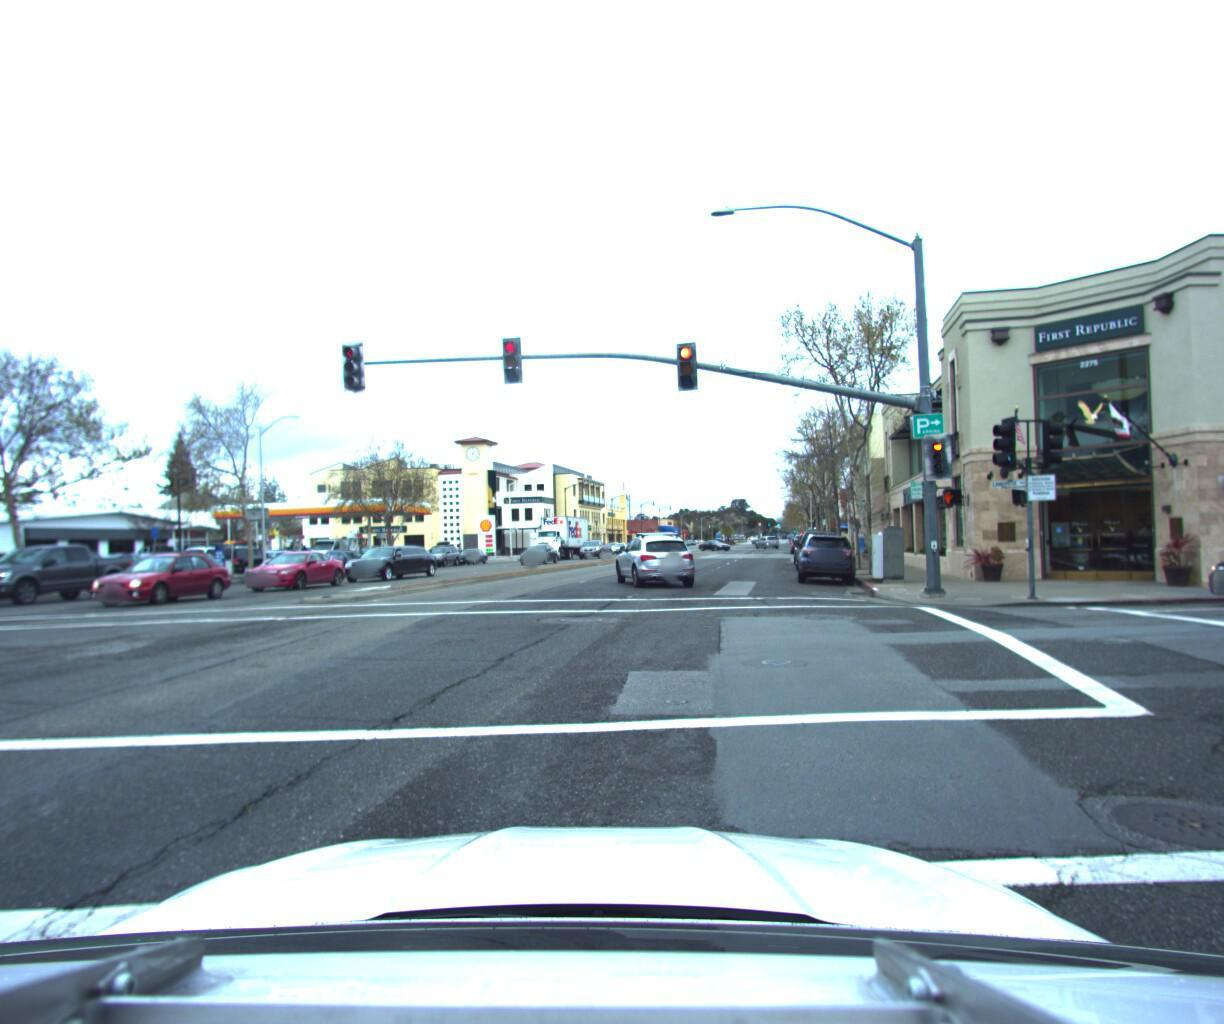car: (86, 553, 242, 611), (0, 555, 140, 614), (234, 553, 355, 598), (611, 536, 696, 595), (790, 534, 855, 594), (1185, 509, 1224, 608), (344, 551, 438, 588), (787, 531, 834, 580), (182, 549, 244, 581), (119, 547, 188, 575), (215, 539, 269, 565), (310, 544, 360, 570), (521, 542, 562, 573), (422, 554, 464, 576), (451, 555, 488, 573), (580, 543, 609, 564)
truck: (526, 518, 590, 569)
